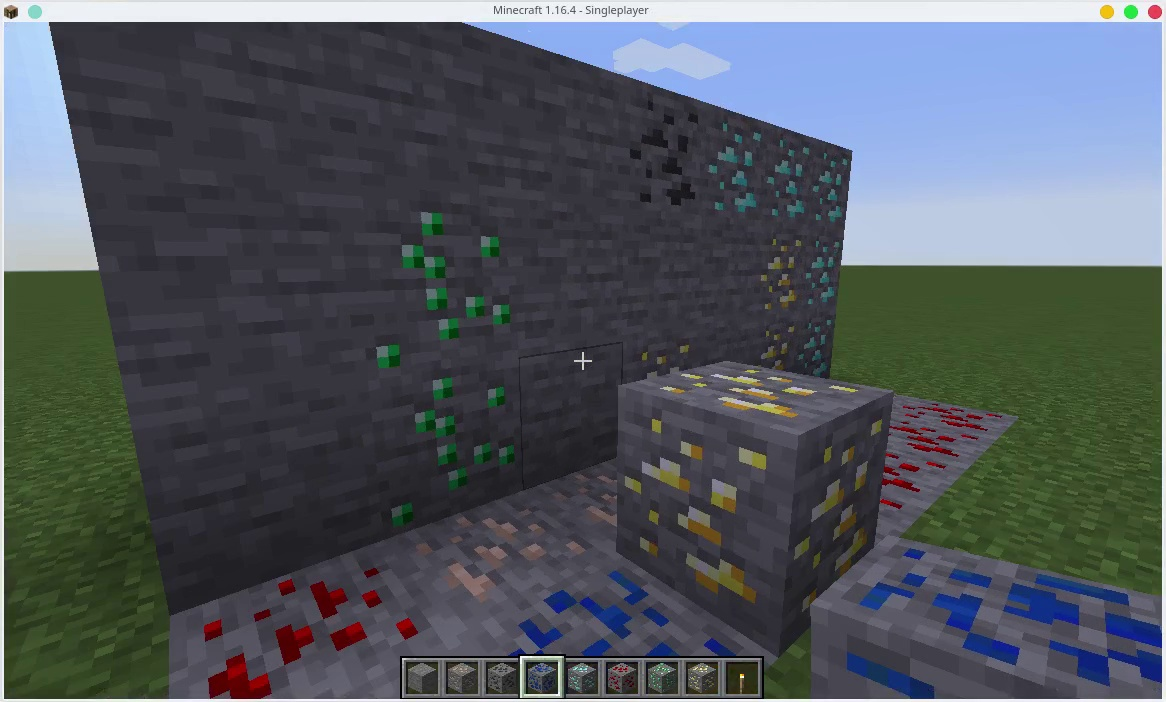gold: (645, 376, 857, 610), (758, 234, 796, 310), (635, 343, 683, 373), (766, 328, 795, 369), (685, 665, 718, 695)
